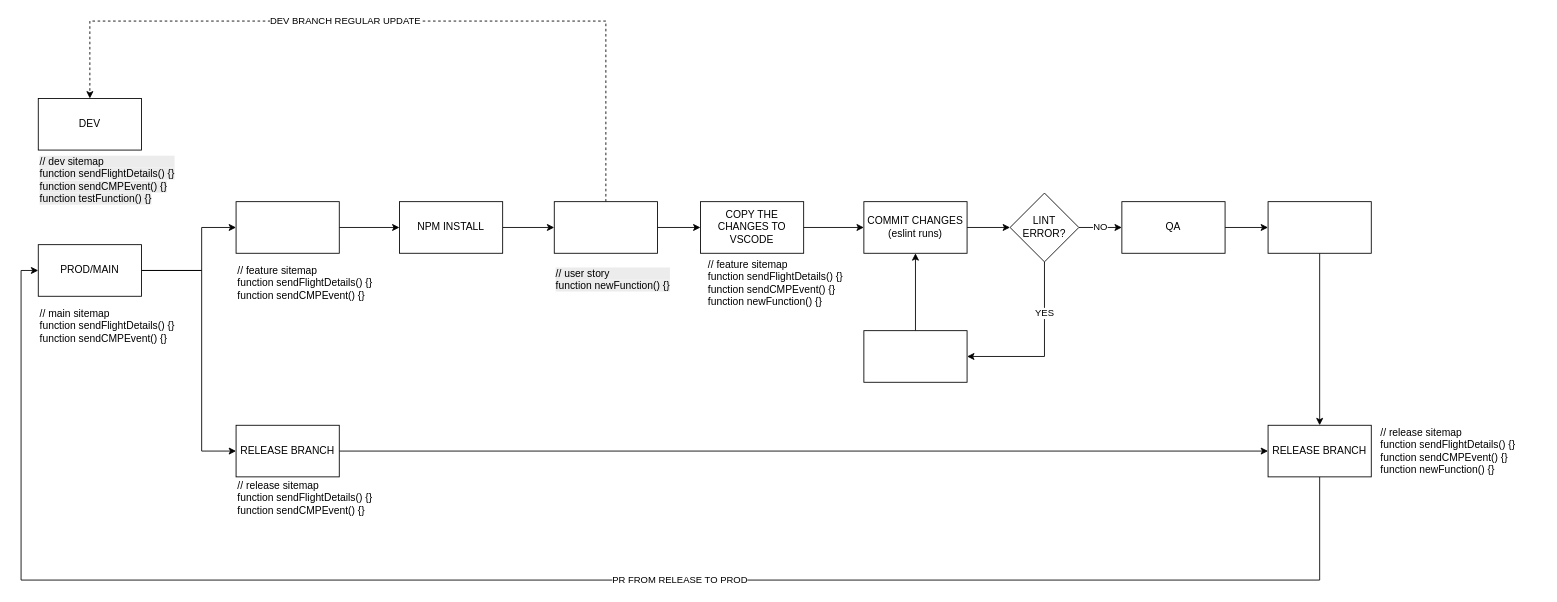
Image size: 1557x602. Some labels were removed from this diagram. Each missing label, with the centre of its shape:
"FEATURE BRANCH" goes at [287,227].
"FIX LINT ERRORS" goes at [915,356].
"MANUAL UPDATE DEV DATA SET SITEMAP FOR TESTS" goes at [605,227].
"OPEN PR TO RELEASE BRANCH" goes at [1319,227].
